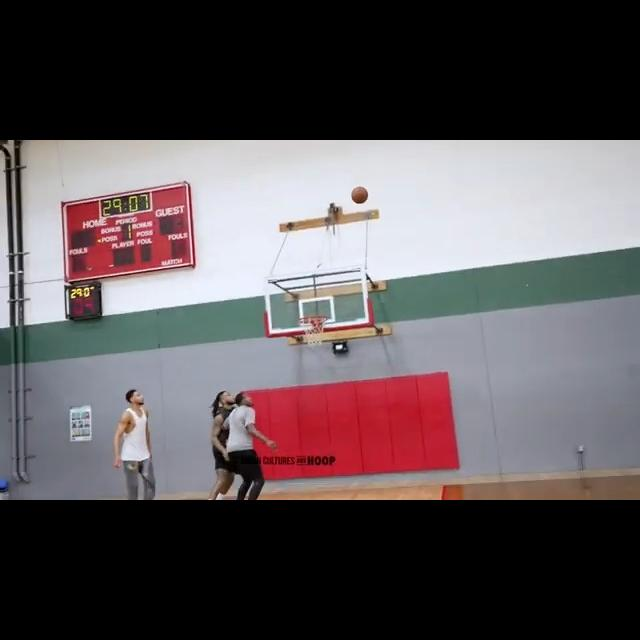basketball: (352, 187, 369, 203)
hoop: (301, 315, 329, 348)
person: (110, 386, 162, 500), (229, 395, 278, 500), (213, 391, 252, 500)
